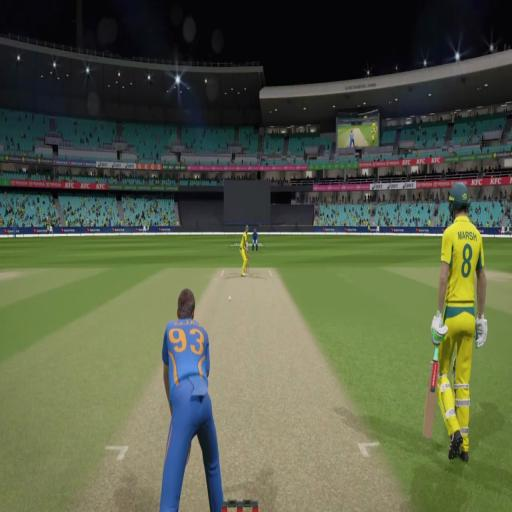ball: (228, 292, 231, 302)
